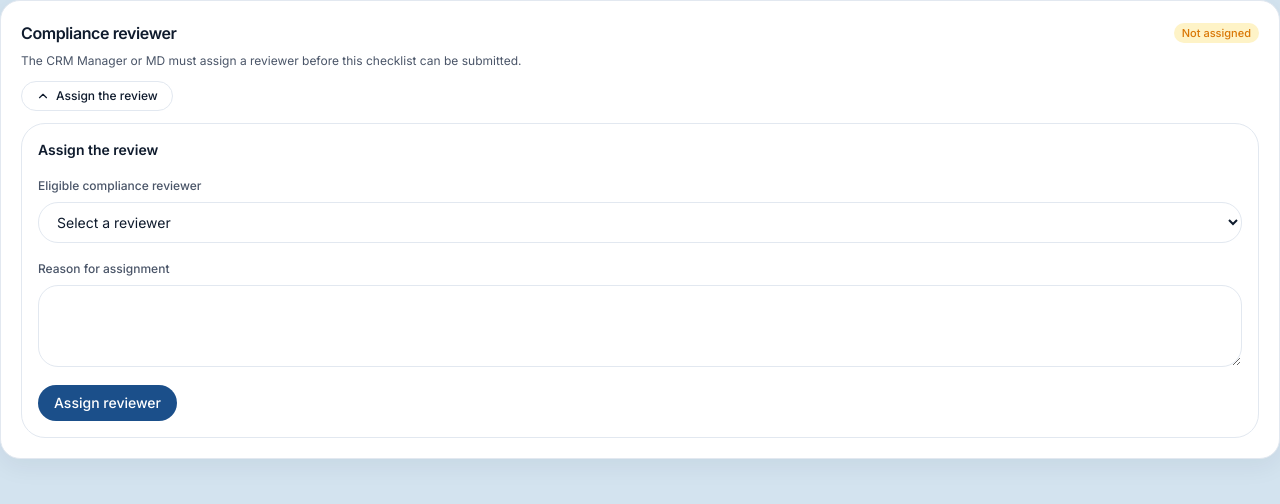
Test: KYC assignment and review › requires reconciliation if reviewer assignment has become stale
Select "Compliance Test" in the dropdown labelled "Eligible compliance reviewer". click: (640, 222)
box: [38, 202, 1242, 243]
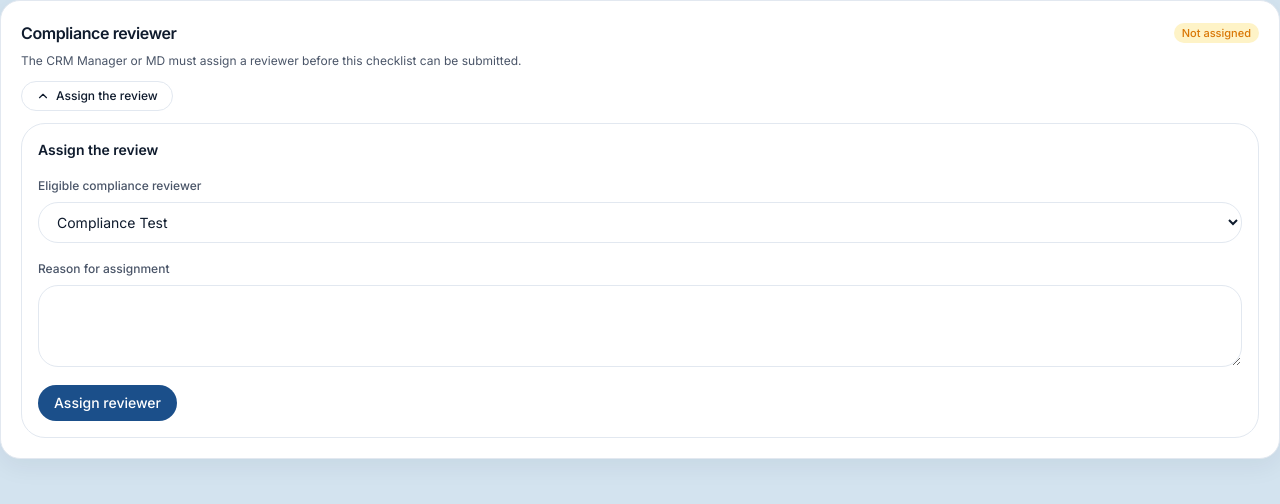
Type "Independent review" into the text box labelled "Reason for assignment". click: (640, 326)
box: [38, 285, 1242, 367]
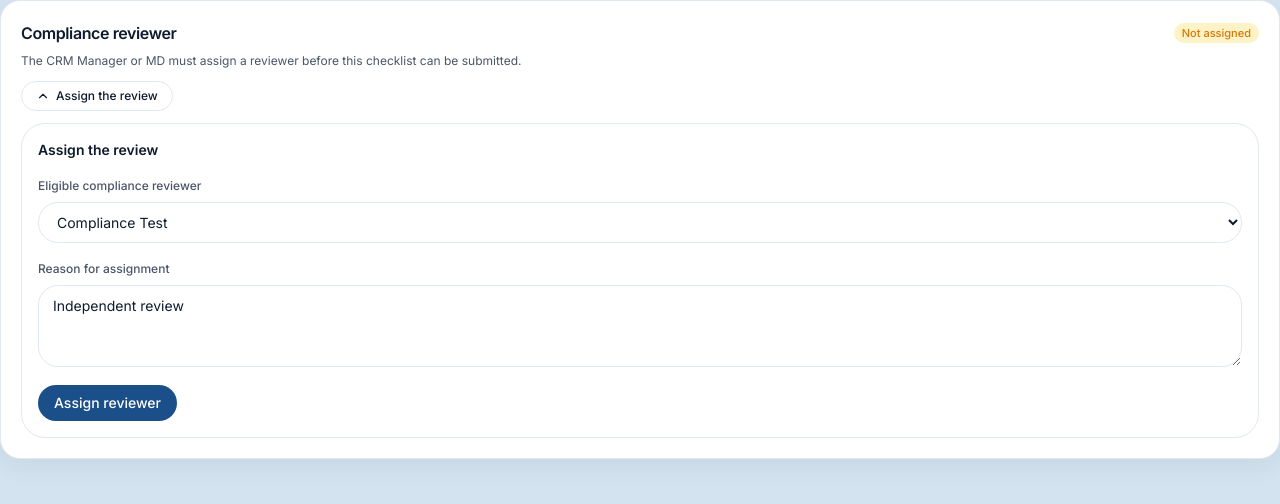
Click the button "Assign reviewer". click: (108, 403)
box: [38, 385, 177, 421]
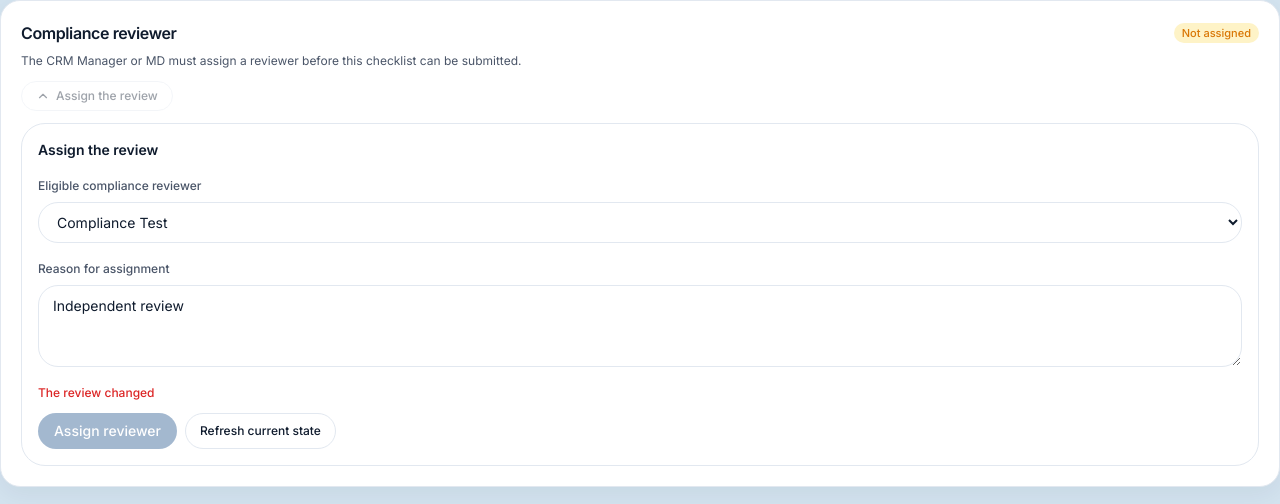
Expected: the button "Refresh current state" is shown, [185, 413, 336, 449]
Expected: the button "Assign reviewer" is disabled, [38, 413, 177, 449]
